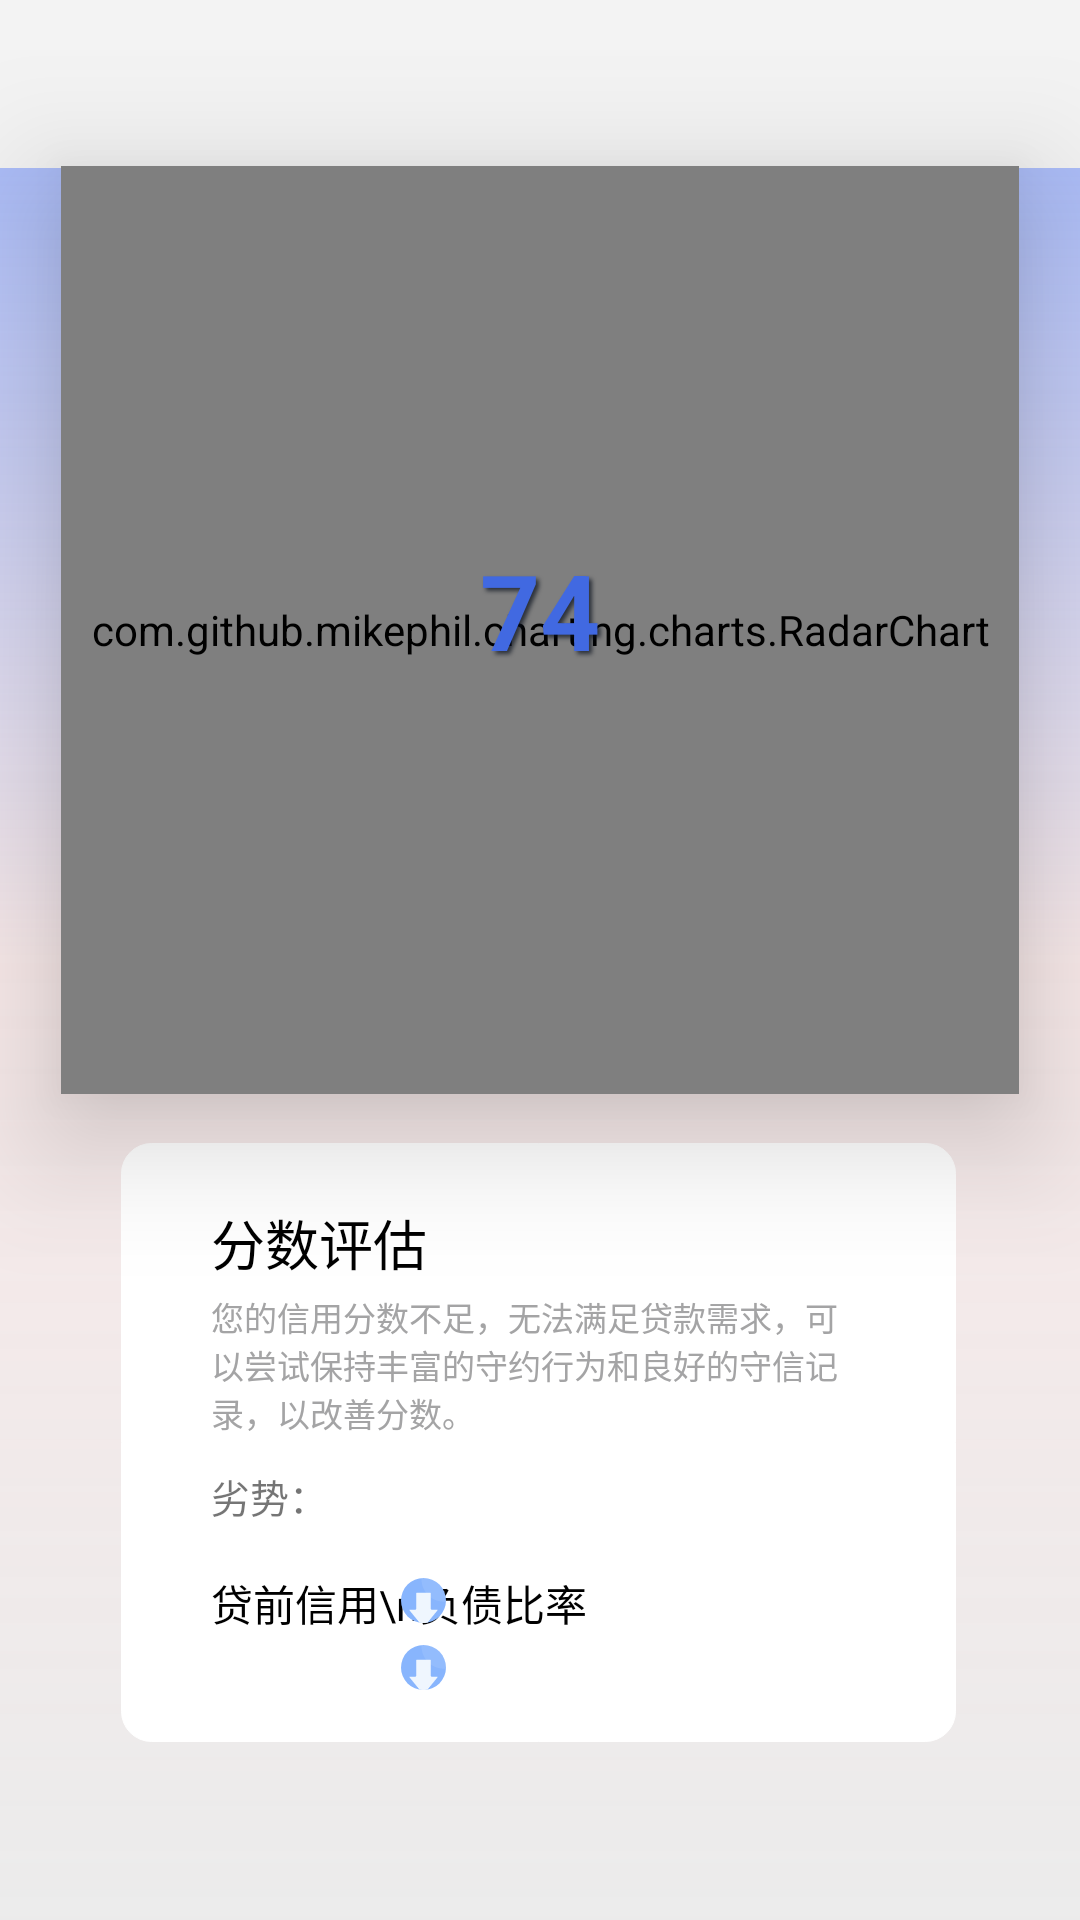

Icons on this 1080w x 1920h Android screen, each with its box as [x1, y1, x2, y2]:
downpoint: [401, 1578, 446, 1623], [401, 1645, 446, 1690]
